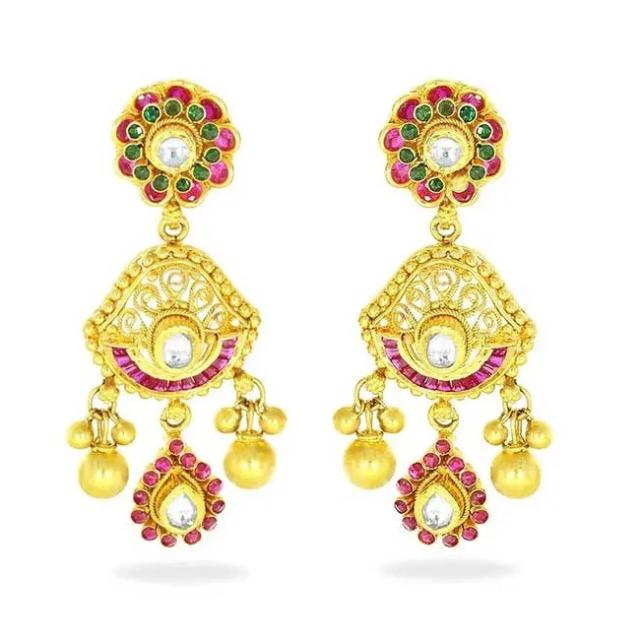missing gem: (452, 177, 466, 191)
